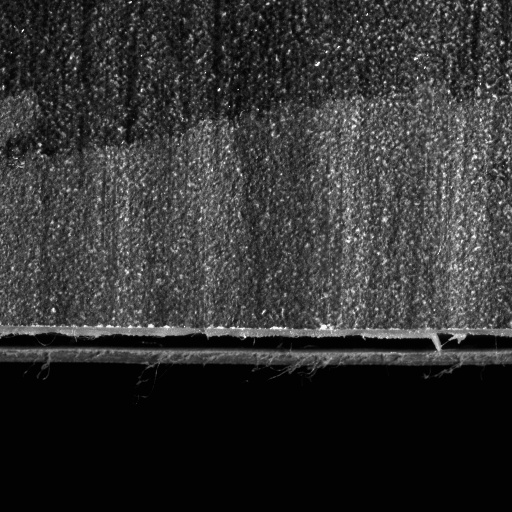kaijiao: (0, 319, 511, 369)
